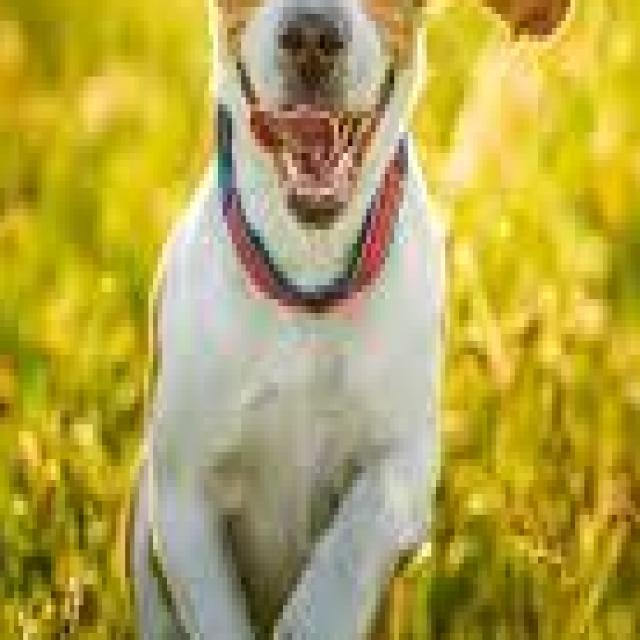dog: (46, 0, 589, 640)
